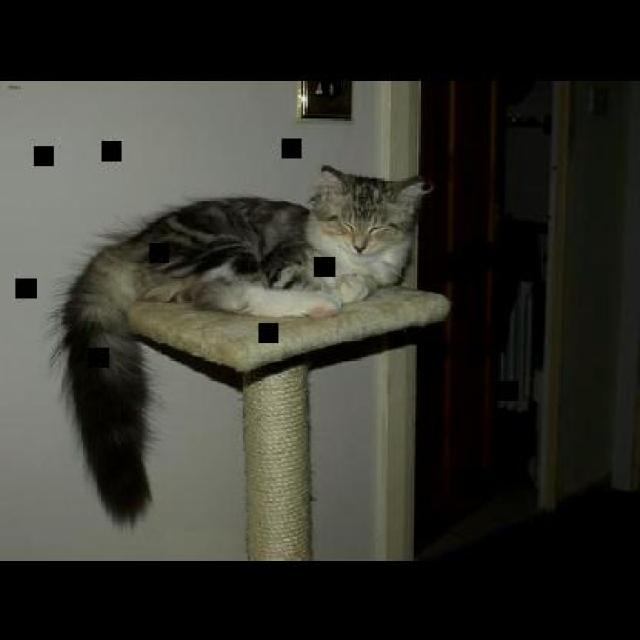unauthorized: (48, 163, 432, 528)
